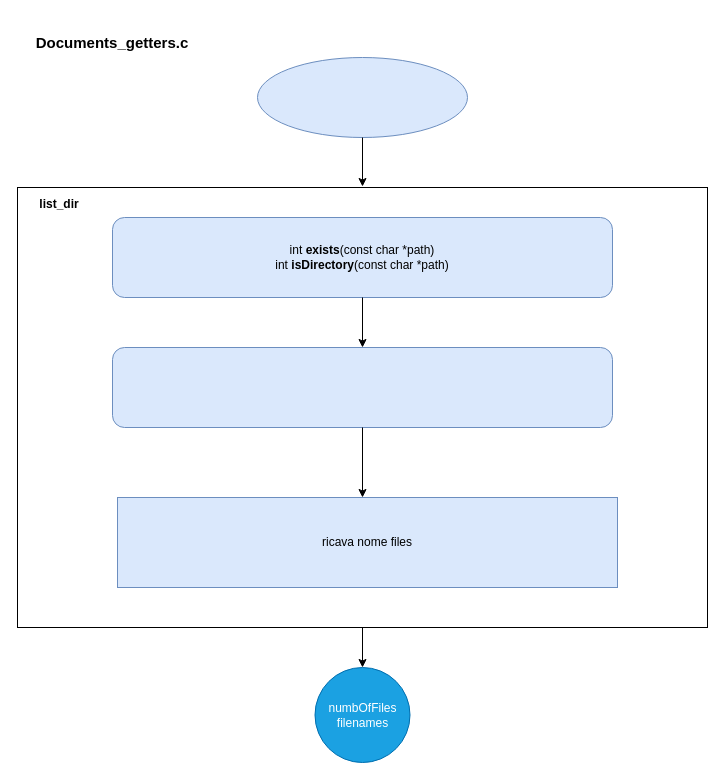
The diagram is 725 pixels wide and 780 high, and some of its shapes have lost their labels. Each missing label, with the centre of its shape:
int countNumberOfFiles (const char *nomeDirectory,DIR *elemento): (362,387)
Main: (362,97)
